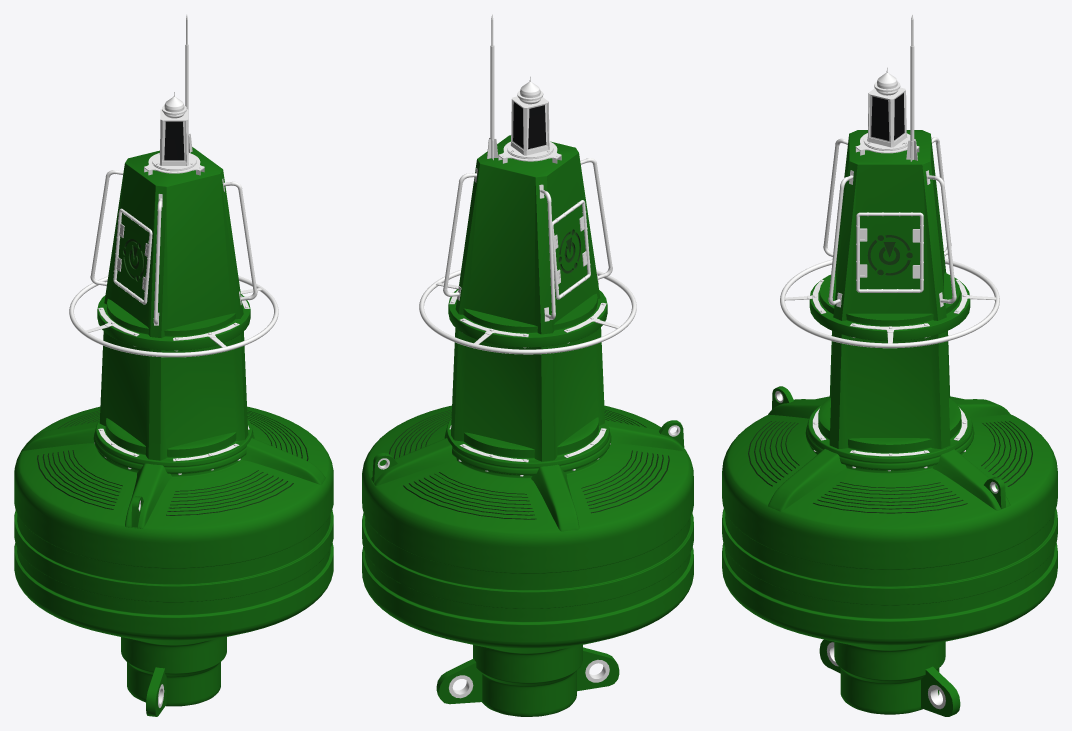
3 renders of one model, left to right at view 1: azimuth 30°, elevation 25°; view 2: azimuth 150°, elevation 25°; view 3: azimuth 270°, elevation 25°, orthographic. The views are drawn at different scales.
Parts seen in each view (by area): view 1: 柱体-下.001, 柱体-上.001, 圆柱体, 布尔.001, 灯器设备.001, 圆环面, 立方体.003, 立方体.004, 立方体.001, 天元海-方框, 灯器设备-黑色, 立方体.005 (+3 smaller); view 2: 柱体-下.001, 柱体-上.001, 圆柱体, 布尔.001, 立方体.005, 灯器设备.001, 圆环面, 立方体.001, 立方体.002, 立方体.004, 灯器设备-黑色, 天元海-方框 (+5 smaller); view 3: 柱体-下.001, 柱体-上.001, 圆柱体, 布尔.001, 圆环面, 灯器设备.001, 立方体.003, 立方体.002, 天元海-方框, 立方体.005, 灯器设备-黑色, 信号针 (+7 smaller).
Boxes of the visible parts, x1=… form: 柱体-下.001: x1=14, y1=406, x2=333, y2=706; 柱体-上.001: x1=99, y1=147, x2=248, y2=460; 圆柱体: x1=97, y1=294, x2=250, y2=350; 布尔.001: x1=37, y1=410, x2=308, y2=515; 灯器设备.001: x1=144, y1=92, x2=204, y2=175; 圆环面: x1=69, y1=276, x2=278, y2=357; 立方体.003: x1=242, y1=438, x2=325, y2=484; 立方体.004: x1=125, y1=463, x2=171, y2=528; 立方体.001: x1=22, y1=421, x2=98, y2=450; 天元海-方框: x1=113, y1=208, x2=152, y2=304; 灯器设备-黑色: x1=164, y1=121, x2=184, y2=160; 立方体.005: x1=146, y1=667, x2=166, y2=716; 柱体-下.001: x1=362, y1=405, x2=693, y2=716; 柱体-上.001: x1=451, y1=135, x2=604, y2=461; 圆柱体: x1=448, y1=289, x2=607, y2=347; 布尔.001: x1=389, y1=409, x2=669, y2=519; 立方体.005: x1=436, y1=647, x2=619, y2=704; 灯器设备.001: x1=498, y1=76, x2=561, y2=163; 圆环面: x1=419, y1=270, x2=636, y2=354; 立方体.001: x1=531, y1=464, x2=579, y2=531; 立方体.002: x1=371, y1=438, x2=456, y2=485; 立方体.004: x1=606, y1=420, x2=685, y2=451; 灯器设备-黑色: x1=513, y1=102, x2=546, y2=149; 天元海-方框: x1=552, y1=200, x2=590, y2=299; 柱体-下.001: x1=722, y1=396, x2=1057, y2=714; 柱体-上.001: x1=829, y1=130, x2=950, y2=448; 圆柱体: x1=809, y1=272, x2=970, y2=341; 布尔.001: x1=748, y1=421, x2=1032, y2=513; 圆环面: x1=780, y1=259, x2=999, y2=348; 灯器设备.001: x1=855, y1=67, x2=919, y2=155; 立方体.003: x1=768, y1=449, x2=846, y2=511; 立方体.002: x1=932, y1=449, x2=1010, y2=510; 天元海-方框: x1=856, y1=212, x2=923, y2=292; 立方体.005: x1=819, y1=639, x2=960, y2=716; 灯器设备-黑色: x1=871, y1=93, x2=904, y2=140; 信号针: x1=906, y1=14, x2=917, y2=161.
Size of the model in its own units: 56.98 by 130 by 56.98.
